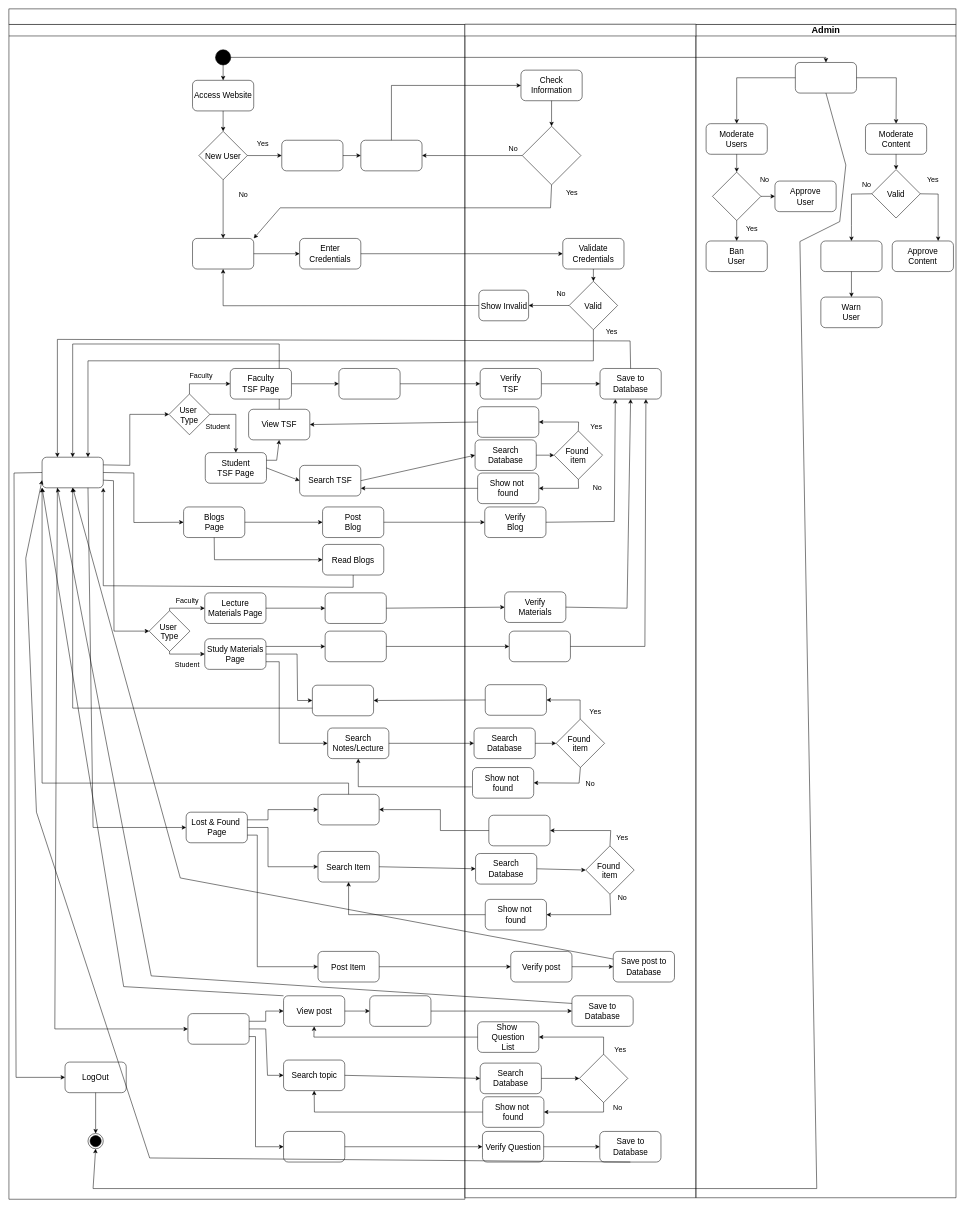
The diagram is 965 pixels wide and 1208 high, and some of its shapes have lost their labels. The box of each missing label's shape, as (x1, y1, x2, y2) in pixels:
Access Dashboard: (795, 62, 857, 93)
AIUB Lifeline Activity Diagram: (8, 8, 956, 24)
Ban Content: (820, 240, 882, 272)
Enter Information: (360, 140, 422, 171)
Found topic: (579, 1054, 628, 1103)
Login: (192, 238, 254, 269)
Q&A Page: (187, 1013, 249, 1044)
Register: (281, 140, 343, 171)
Show Faculty List: (477, 406, 539, 437)
Show Item List: (488, 815, 550, 846)
Show Notes List: (485, 684, 546, 715)
Submit Answer: (369, 995, 431, 1026)
Submit Question: (283, 1131, 345, 1162)
Suspicious: (712, 172, 761, 221)
System: (464, 24, 696, 1198)
Upload Materials: (325, 592, 386, 623)
Upload Notes: (325, 631, 386, 662)
Upload TSF: (338, 368, 400, 399)
User [Student] [Faculty]: (8, 24, 465, 1199)
User Dashboard: (42, 457, 103, 488)
Verify Information: (522, 126, 581, 185)
Verify Notes: (509, 631, 570, 662)
View Item: (317, 794, 379, 825)
View Notes/Lecture: (312, 685, 374, 716)
